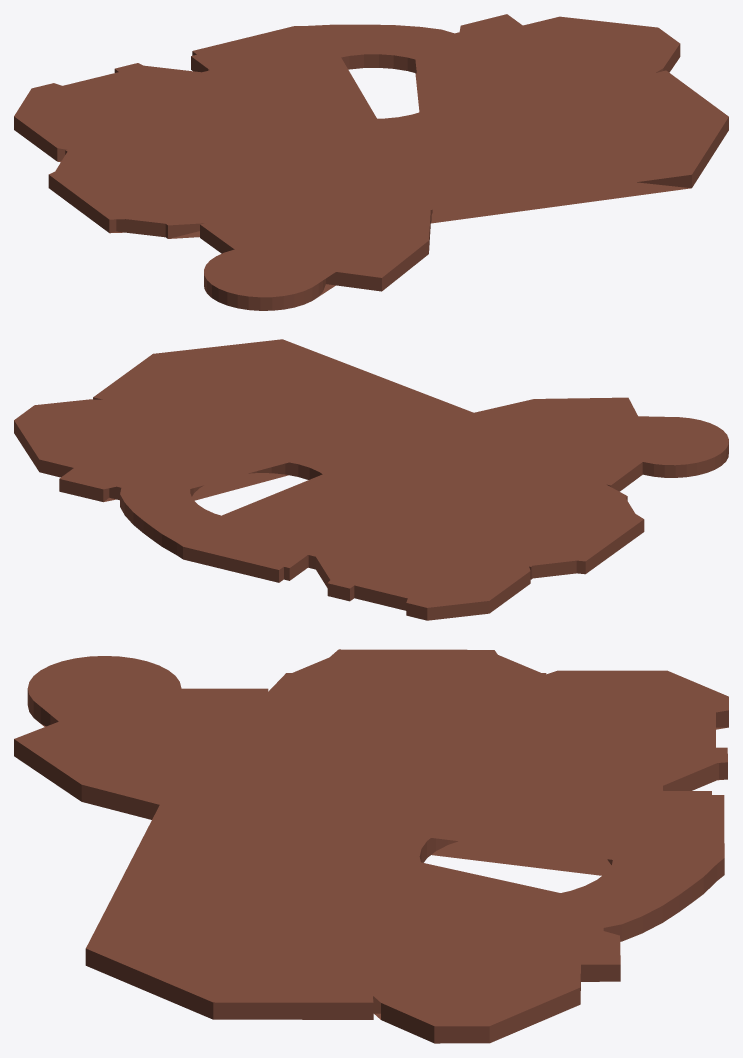
File: Teto .fbx
3 views of the same model, one above another, from view 1: azimuth 30°, elevation 25°; view 2: azimuth 150°, elevation 25°; view 3: azimuth 270°, elevation 25° (orthographic). The views are drawn at different scales.
Visible parts, largest first — view 1: Plane.001; view 2: Plane.001; view 3: Plane.001.
Part boxes in pixels (box(x1,y1,x2,y2)): Plane.001: box(14, 14, 728, 310); Plane.001: box(14, 339, 728, 620); Plane.001: box(14, 649, 728, 1043).
Bounding box in the file's own units: 3817 × 81.38 × 3061.
